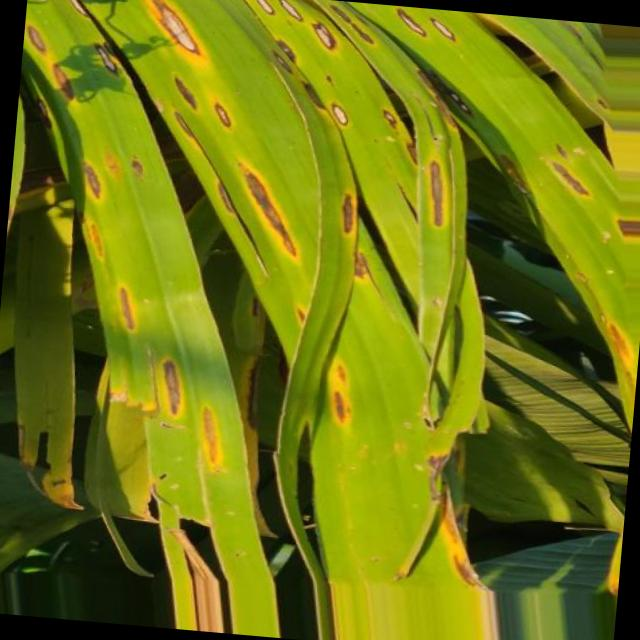Banana_Yellow_Sigatoka: (210, 136, 322, 264), (122, 0, 233, 74), (408, 144, 472, 242), (371, 4, 482, 46), (90, 268, 149, 344), (292, 4, 353, 74), (314, 343, 362, 430), (152, 352, 202, 433), (540, 156, 609, 213), (194, 382, 223, 454), (618, 192, 640, 252)
